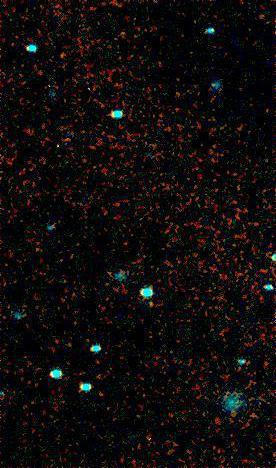star: (137, 290, 167, 320)
